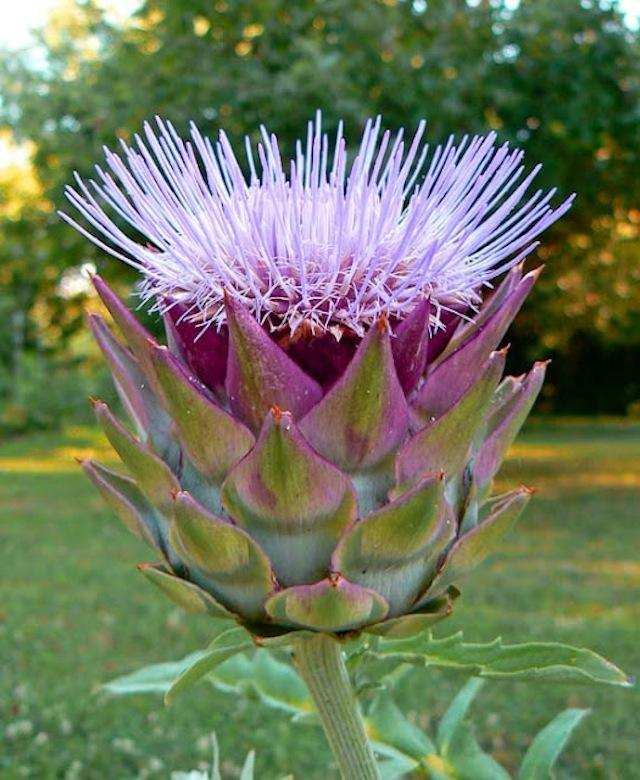thistle: (46, 117, 564, 657)
